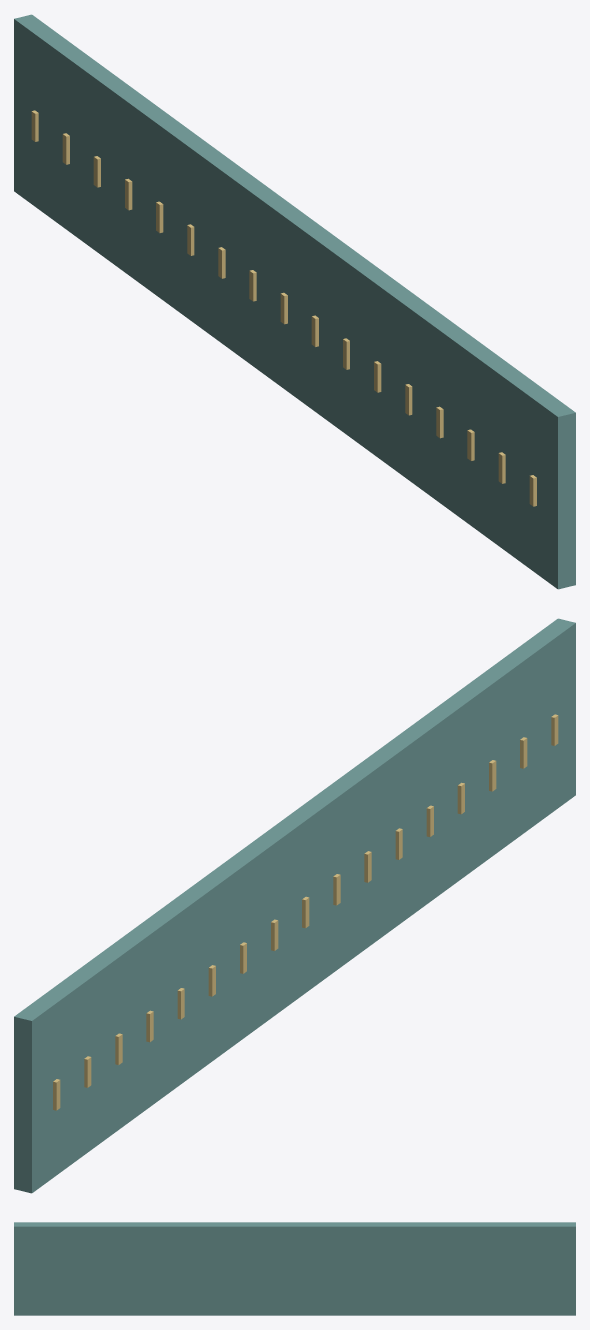
File: RushPromenadeShutter.glb
3 renders of one model, top to bottom at view 1: azimuth 30°, elevation 25°; view 2: azimuth 150°, elevation 25°; view 3: azimuth 270°, elevation 25°, orthographic. The views are drawn at different scales.
Visible parts, largest first — view 1: RushPromenadeShutter; view 2: RushPromenadeShutter; view 3: RushPromenadeShutter.
Boxes of the visible parts, x1,y1,x2,y2 form: RushPromenadeShutter: [14, 14, 575, 589]; RushPromenadeShutter: [14, 618, 575, 1193]; RushPromenadeShutter: [14, 1222, 575, 1315].
Bounding box in the file's own units: 0.287 × 2.2 × 12.58.
